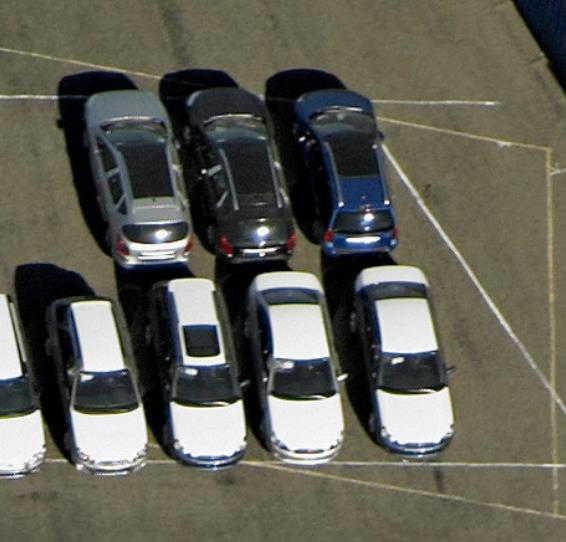car: (138, 275, 253, 465), (239, 271, 350, 467), (346, 262, 458, 456), (181, 83, 298, 263), (81, 88, 196, 269), (38, 297, 149, 480), (289, 85, 398, 255)
